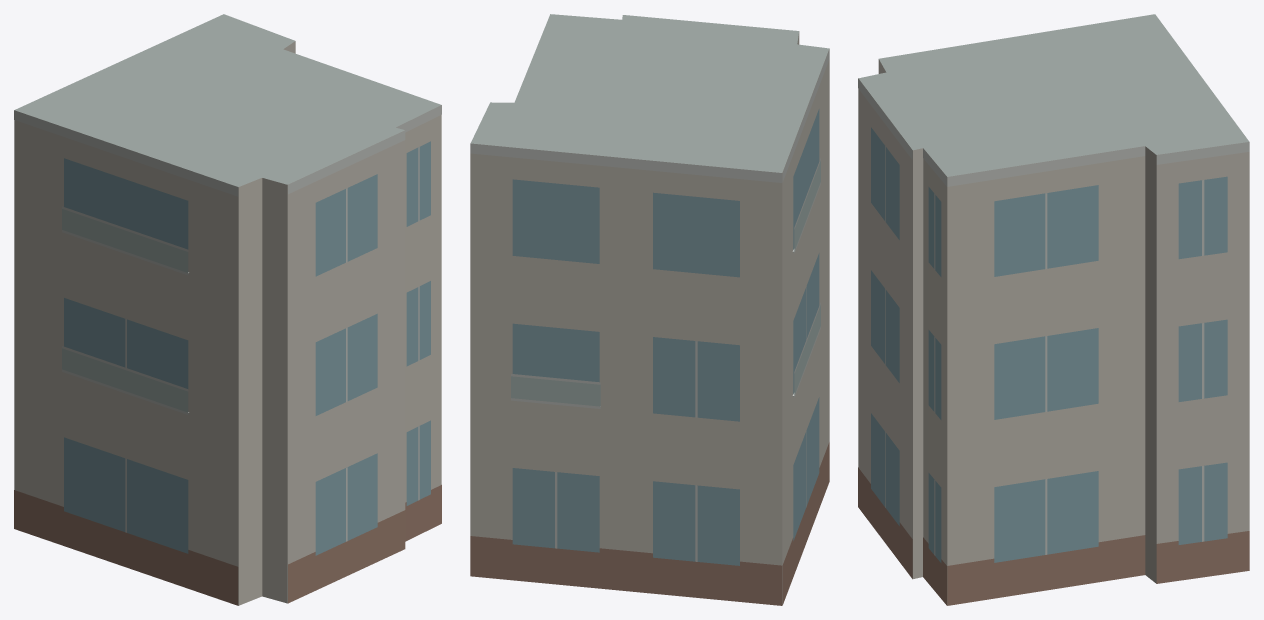
Rendered from survey-upis-32726168.glb.
3 views of the same model, side by side, from view 1: azimuth 30°, elevation 25°; view 2: azimuth 150°, elevation 25°; view 3: azimuth 270°, elevation 25° (orthographic). The views are drawn at different scales.
Parts seen in each view (by area): view 1: survey-upis-32726168.tmp; view 2: survey-upis-32726168.tmp; view 3: survey-upis-32726168.tmp.
Part boxes in pixels (x1=…): survey-upis-32726168.tmp: x1=14, y1=14, x2=441, y2=605; survey-upis-32726168.tmp: x1=470, y1=14, x2=829, y2=605; survey-upis-32726168.tmp: x1=858, y1=14, x2=1249, y2=605.
Bounding box in the file's own units: 8.57 × 10.5 × 8.69.
